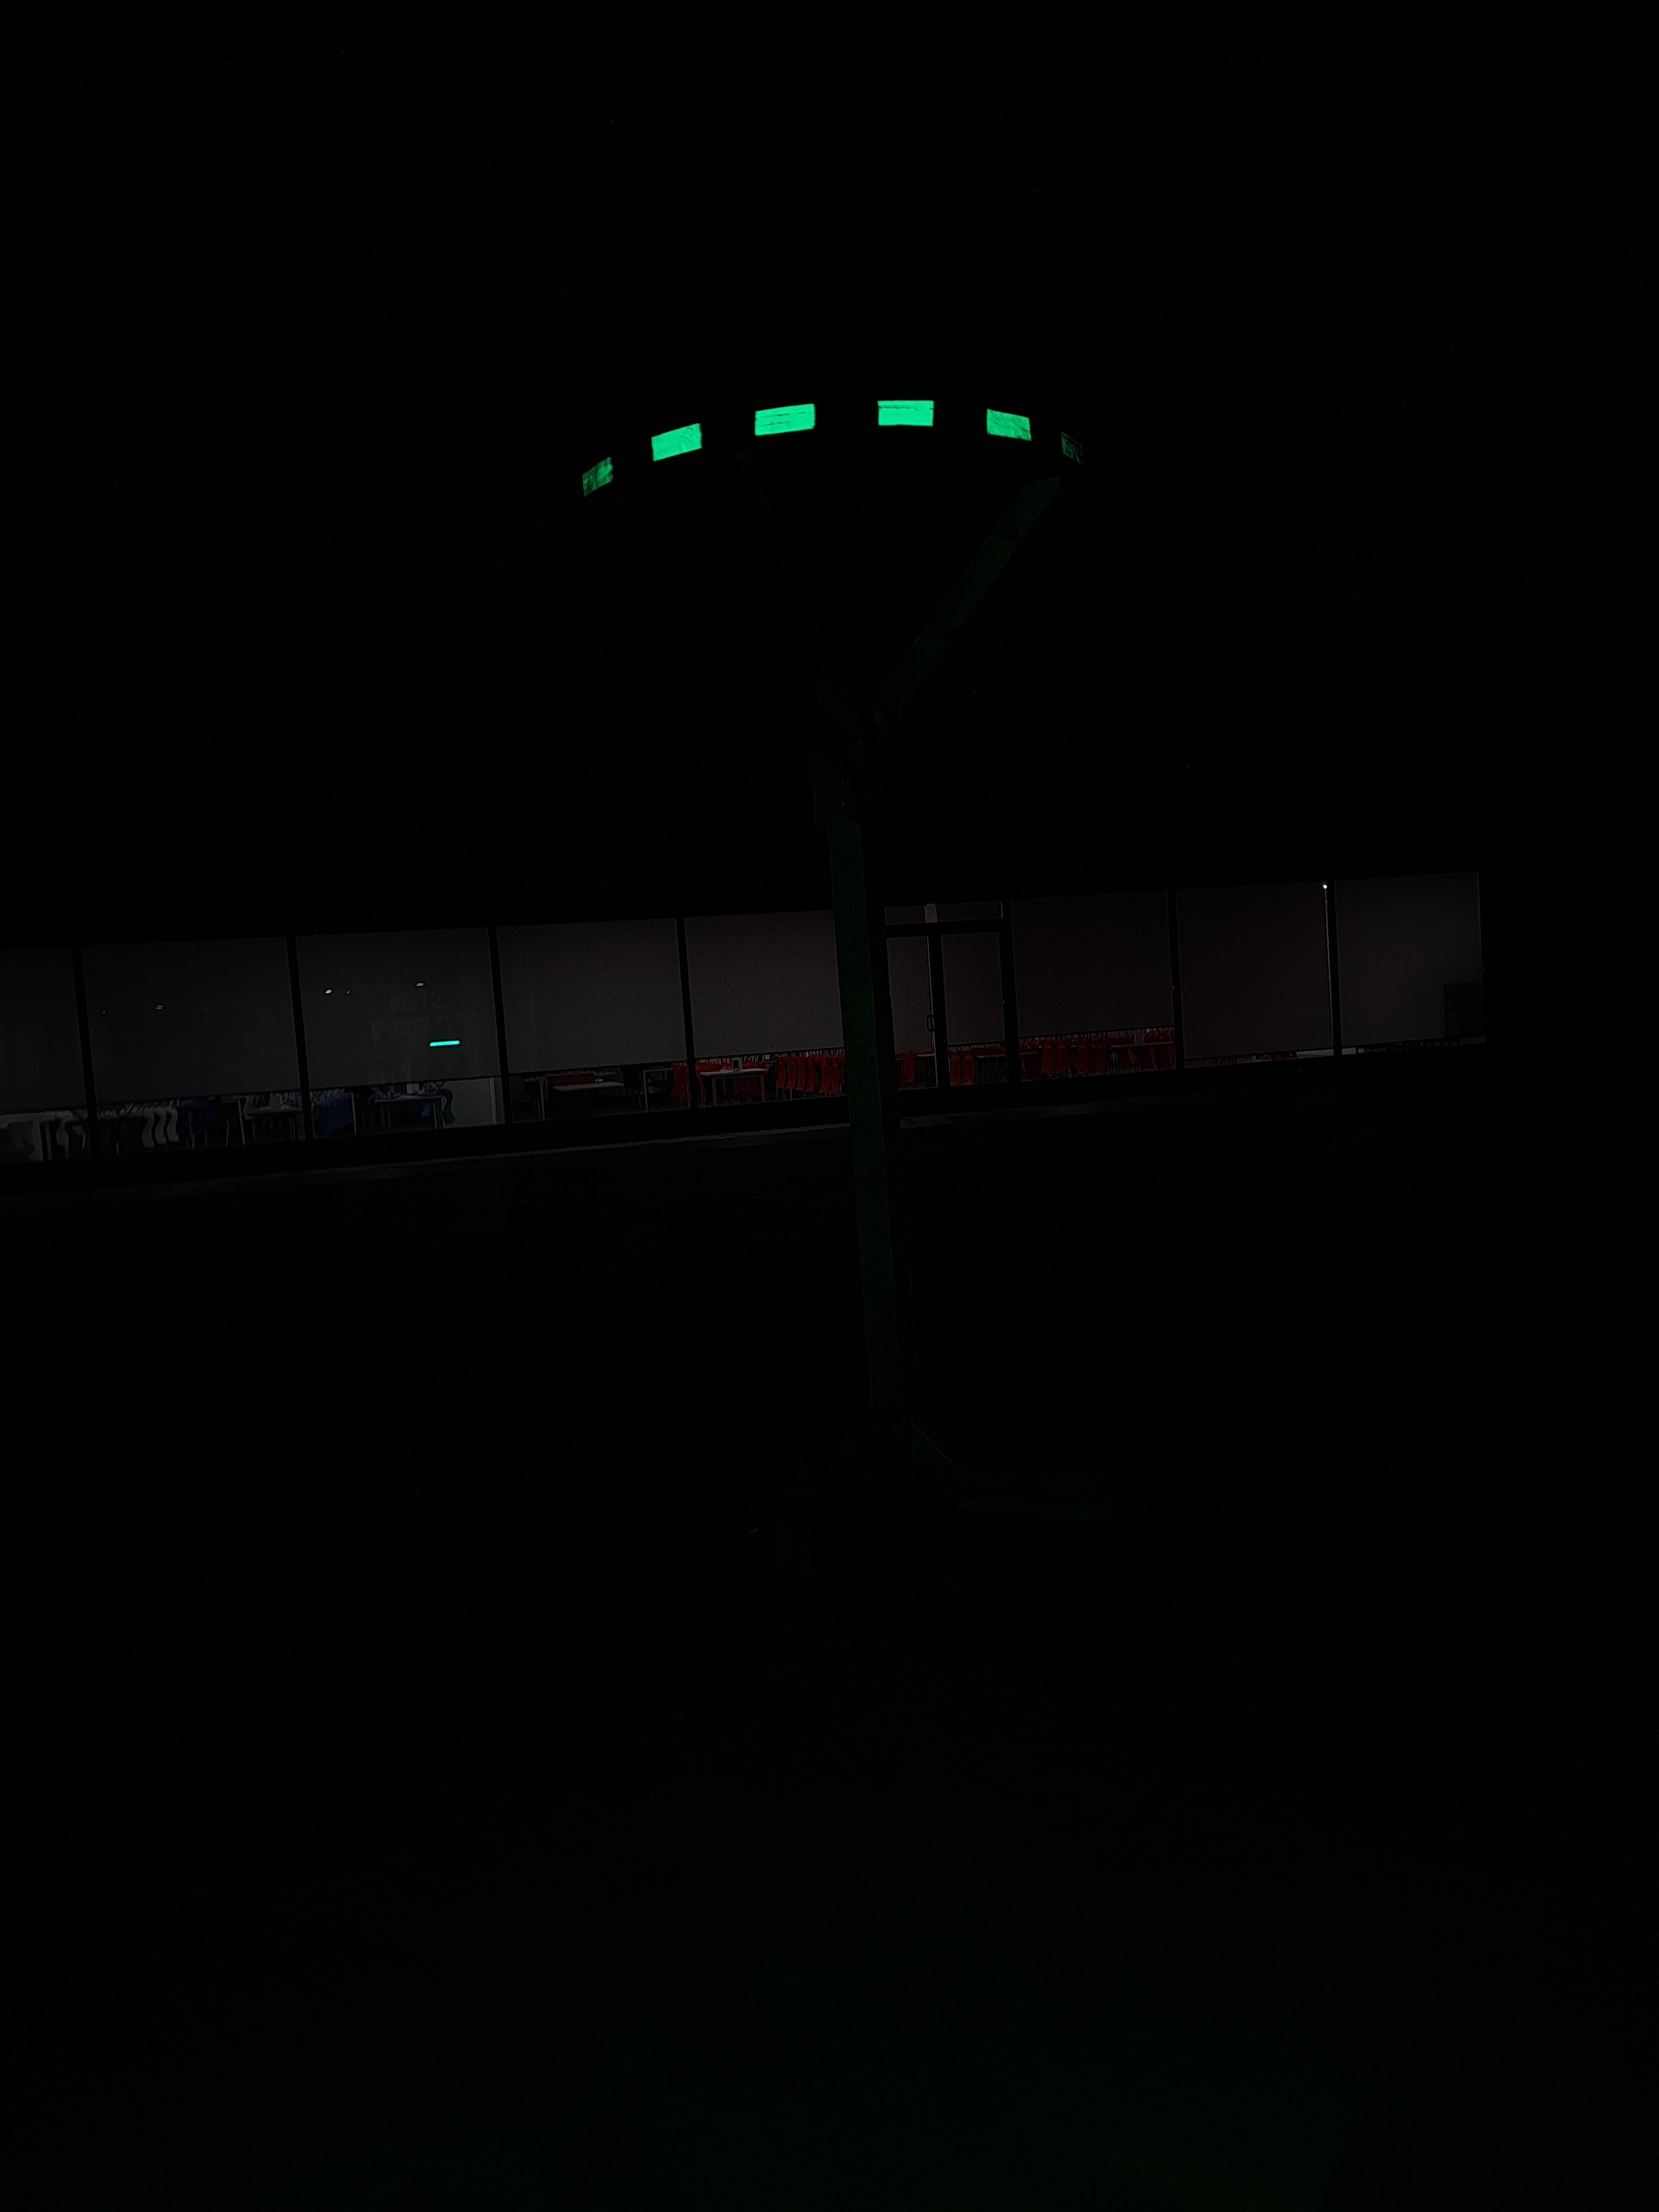hoop: (559, 394, 1040, 489)
